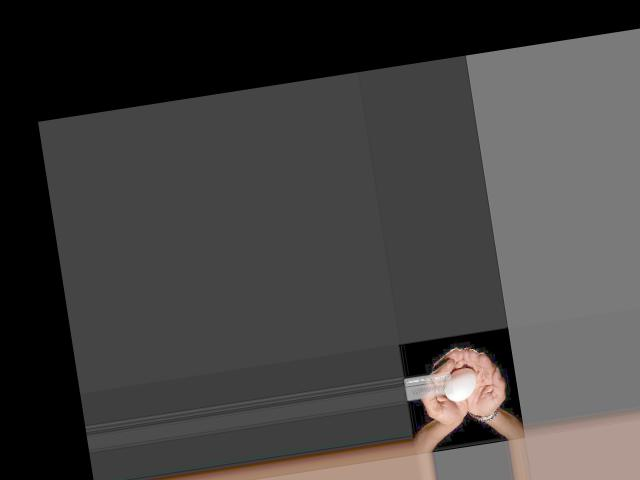egg: (441, 365, 480, 403)
